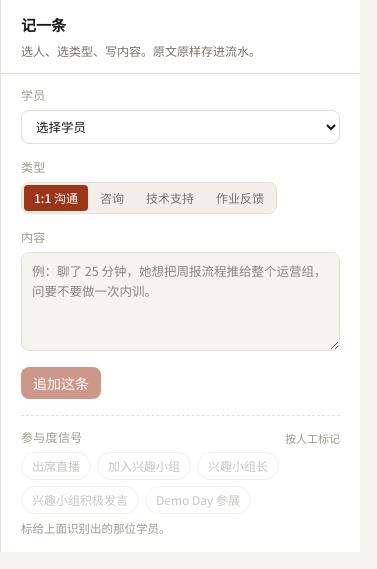
记一条 › 没选学员或没写内容时保存按钮禁用
Expected: the button "追加这条" is disabled, [21,367,101,399]
Select "学员甲" in the dropdown labelled "学员": (180,126) [21,110,340,144]
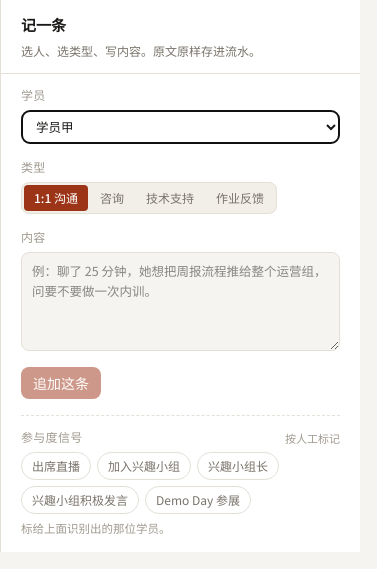
Expected: the button "追加这条" is disabled, [21,367,101,399]
In the text box labelled "内容": (180,301) [21,252,340,351], type "聊了下学习进度"
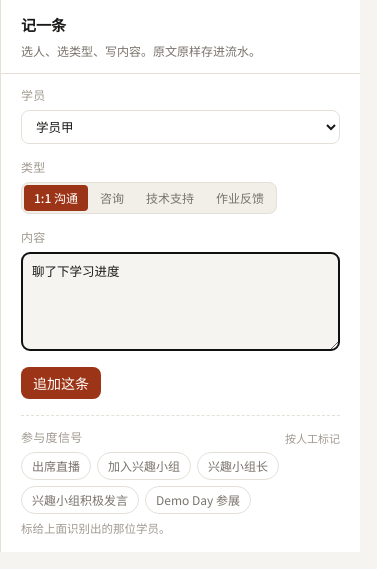
Expected: the button "追加这条" is enabled, [21,367,101,399]
